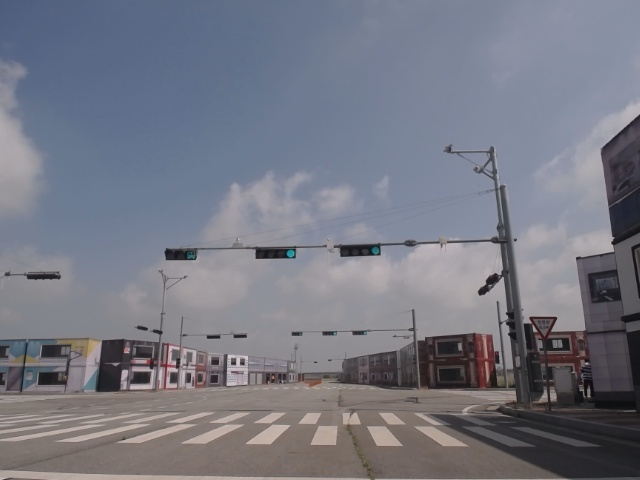straight_green_4: (256, 248, 297, 258), (341, 246, 381, 256)
